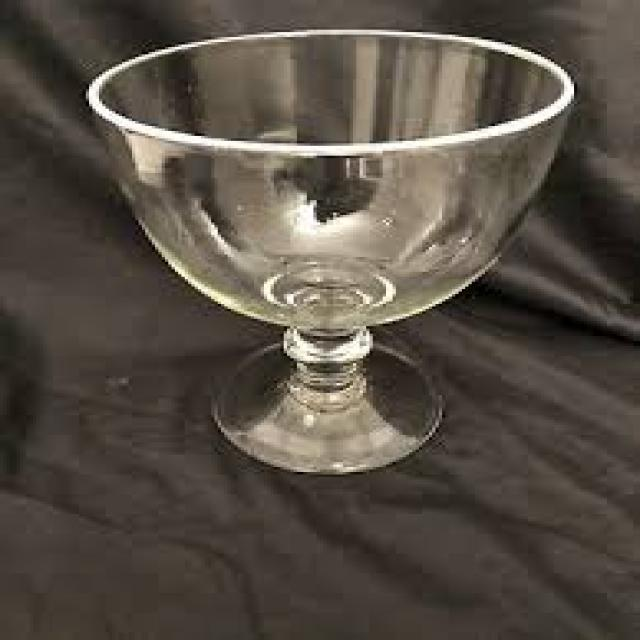glass: (86, 30, 571, 472)
